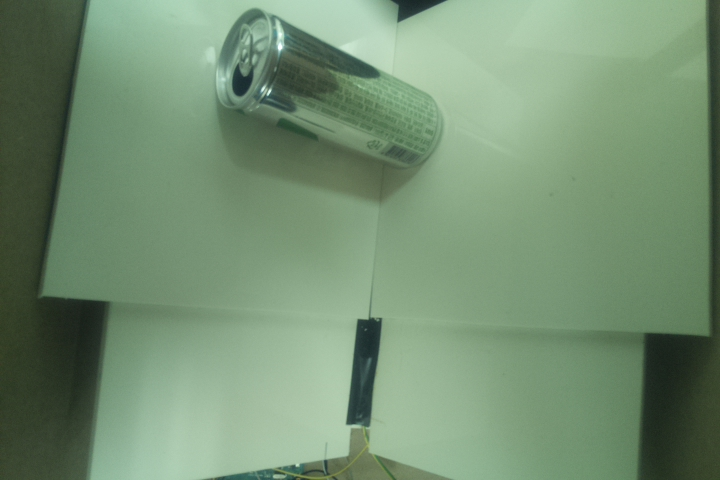can: (210, 7, 446, 170)
